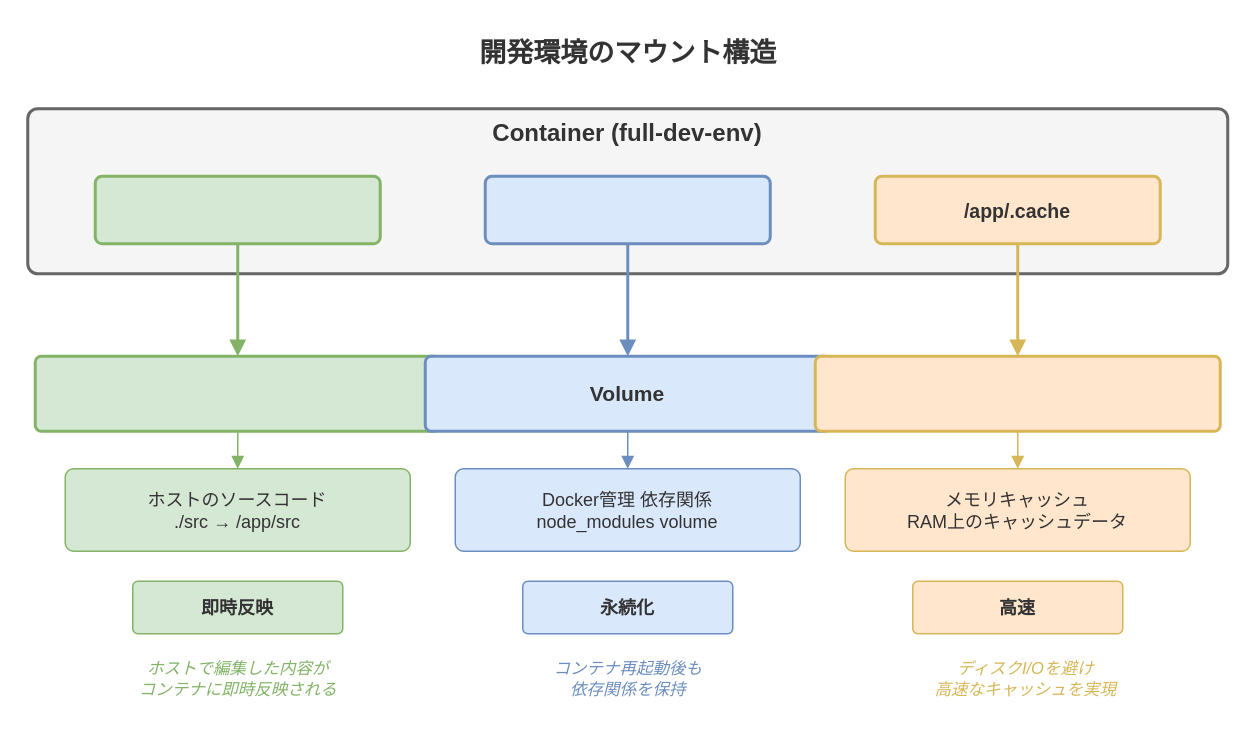
Image size: 1254x734. Some labels were removed from this diagram. Here are the shapes that lost their labels. From the top down, the box of each, then its label:
(93, 174, 381, 244): /app/src
(483, 174, 771, 244): /app/node_modules
(33, 354, 441, 432): Bind Mount
(813, 354, 1221, 432): tmpfs
